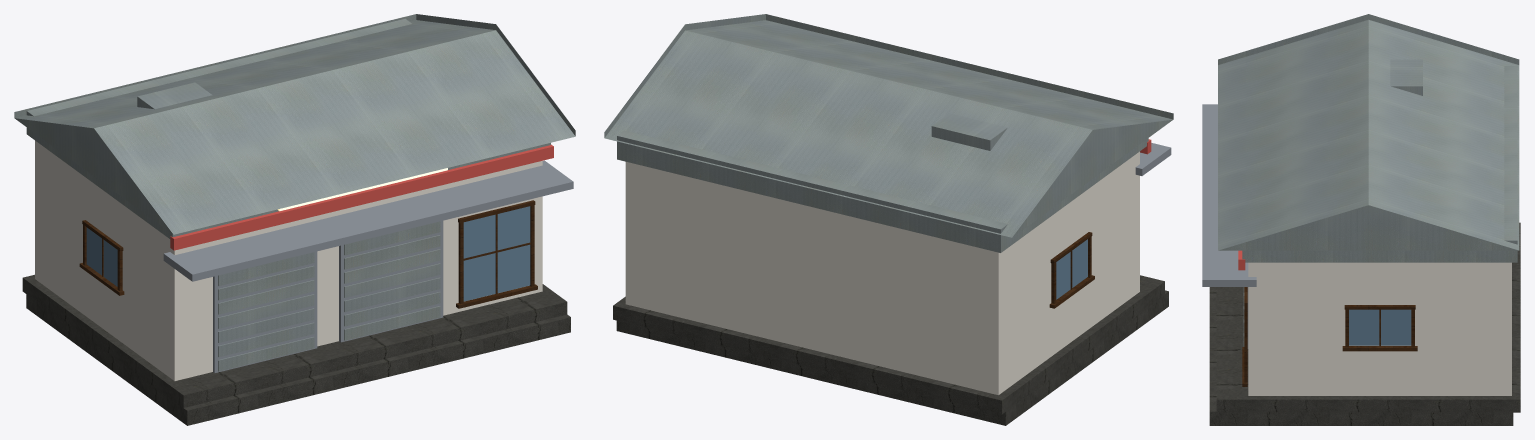
The model's file is garage.gltf.
The picture shows the model from 3 angles, left to right: view 1: azimuth 30°, elevation 25°; view 2: azimuth 150°, elevation 25°; view 3: azimuth 270°, elevation 25°; orthographic projection. The views are drawn at different scales.
Visible parts, largest first — view 1: AlderGarage; view 2: AlderGarage; view 3: AlderGarage.
Part boxes in pixels (x1,y1,x2,y2): AlderGarage: (14, 14, 575, 425); AlderGarage: (604, 14, 1173, 425); AlderGarage: (1202, 14, 1520, 425).
Size of the model in its own units: 15.3 by 8.88 by 11.1.
Materials: 8 (3 with a texture image).
